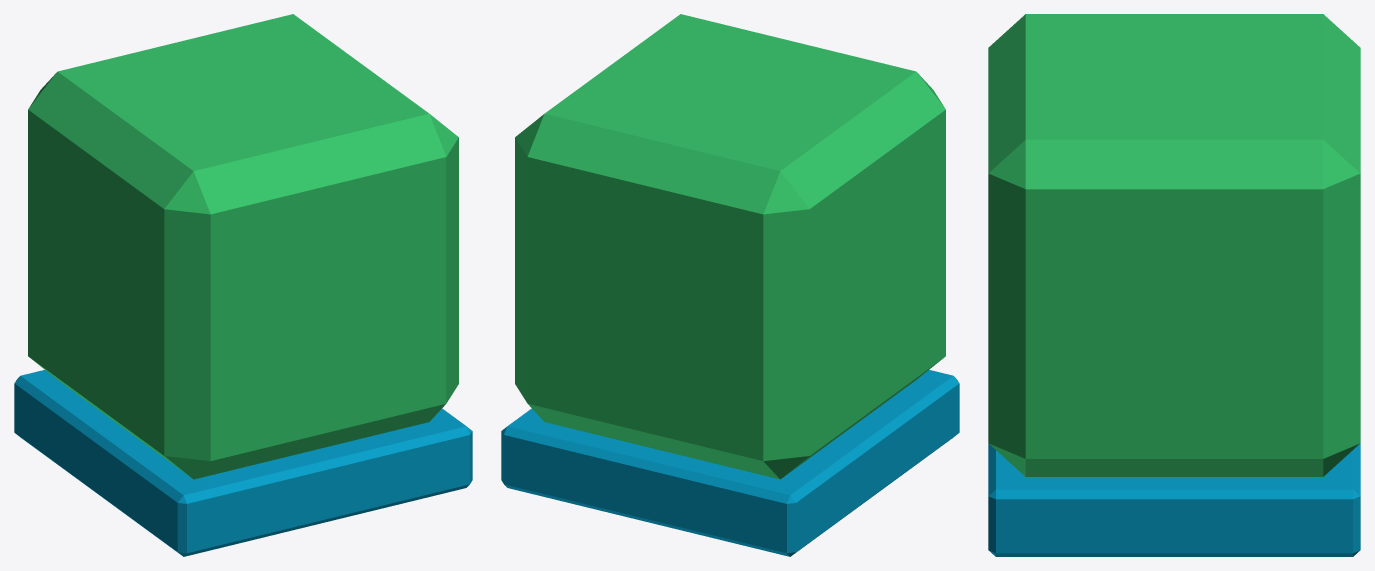
File: testWall.fbx
3 renders of one model, left to right at view 1: azimuth 30°, elevation 25°; view 2: azimuth 150°, elevation 25°; view 3: azimuth 270°, elevation 25°, orthographic. The views are drawn at different scales.
Parts seen in each view (by area): view 1: pCube2, pCube1; view 2: pCube2, pCube1; view 3: pCube2, pCube1.
Boxes of the visible parts, box(x1,y1,x2,y2) form: pCube2: box(28, 14, 458, 479); pCube1: box(14, 370, 472, 556); pCube2: box(515, 14, 945, 479); pCube1: box(501, 370, 959, 556); pCube2: box(988, 14, 1360, 476); pCube1: box(988, 443, 1360, 556).
Bounding box in the file's own units: 1 × 1.2 × 1.
